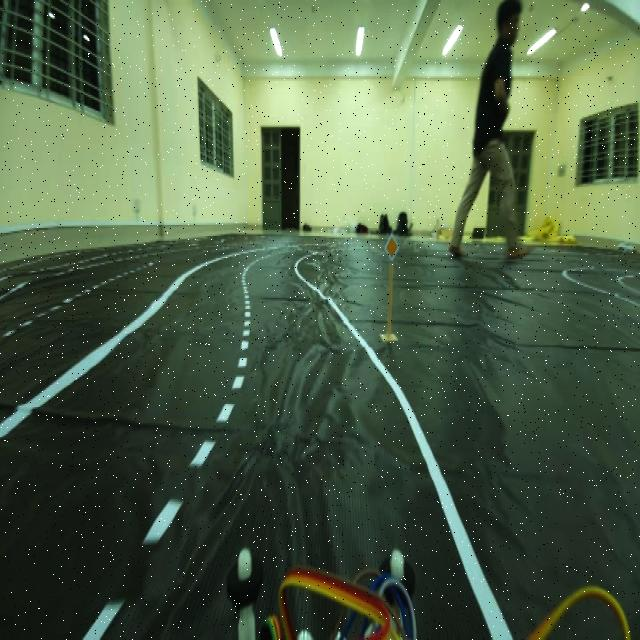priority: (382, 236, 400, 263)
